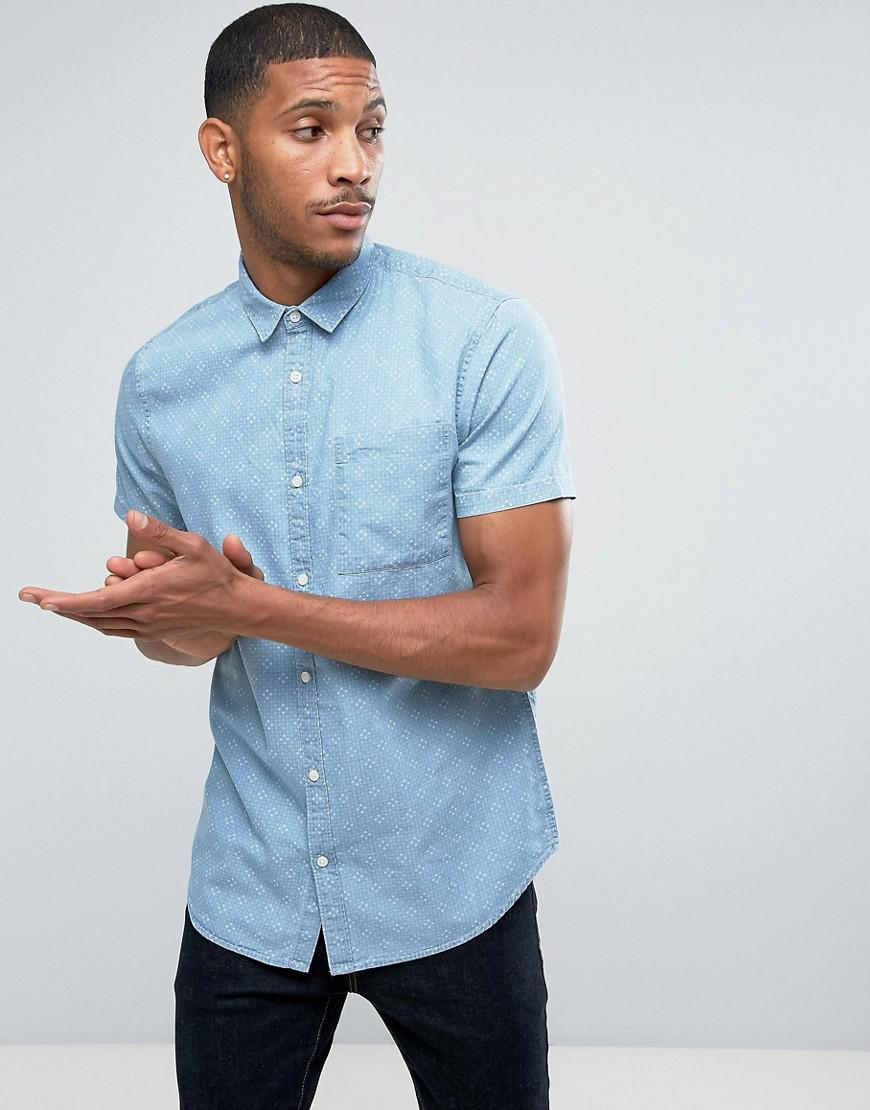teeshirt: (107, 240, 588, 995)
